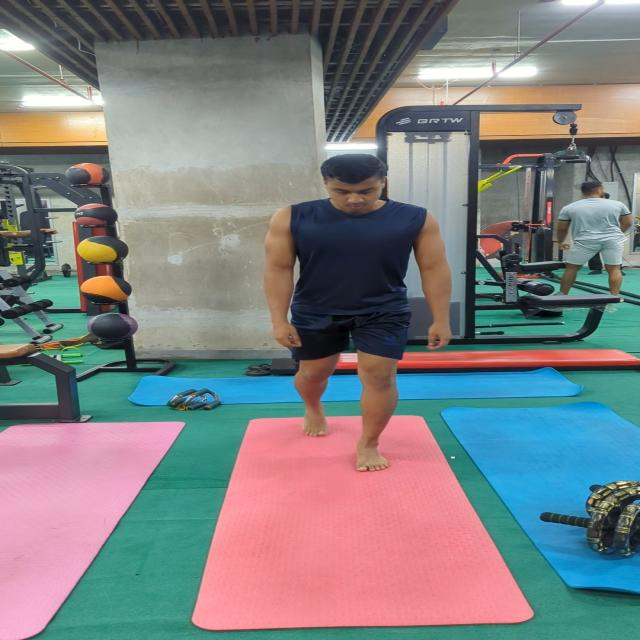Normal_Lunges: (260, 153, 458, 475)
